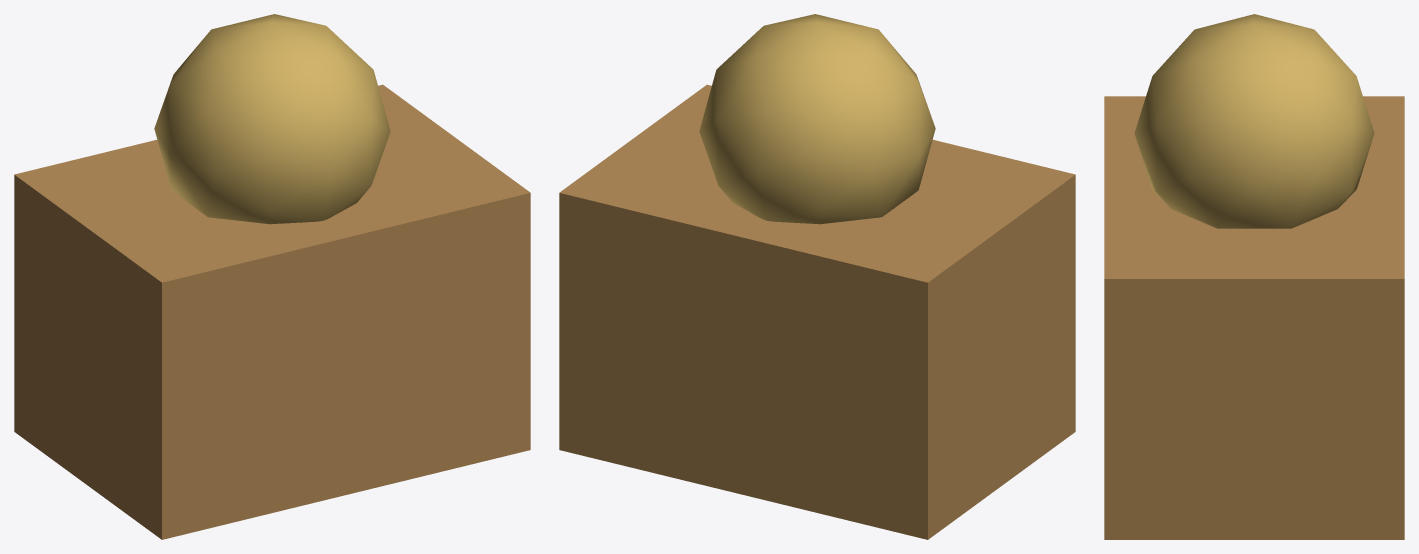
File: furnace.glb
3 renders of one model, left to right at view 1: azimuth 30°, elevation 25°; view 2: azimuth 150°, elevation 25°; view 3: azimuth 270°, elevation 25°, orthographic.
Parts seen in each view (by area): view 1: furnace_base, furnace_detail; view 2: furnace_base, furnace_detail; view 3: furnace_base, furnace_detail.
Boxes of the visible parts, x1,y1,x2,y2 form: furnace_base: (14,84,530,539); furnace_detail: (154,14,390,224); furnace_base: (559,84,1075,539); furnace_detail: (699,14,935,224); furnace_base: (1104,96,1404,539); furnace_detail: (1134,14,1374,228).
Size of what is drawn, in the model's own units: 1.8 by 1.95 by 1.25.
